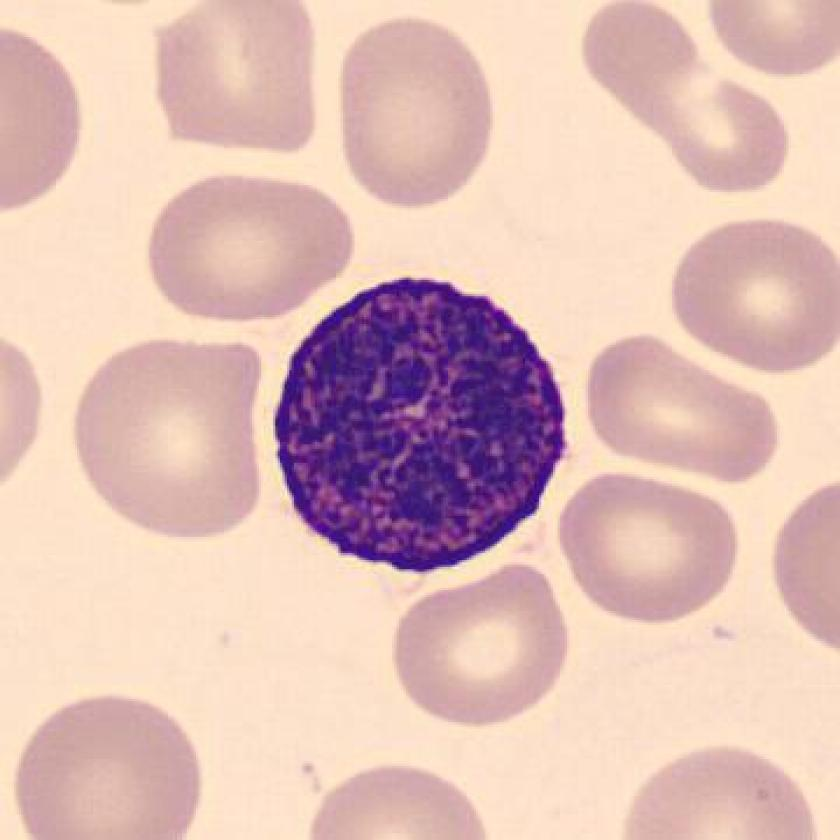basophil: (265, 265, 573, 577)
